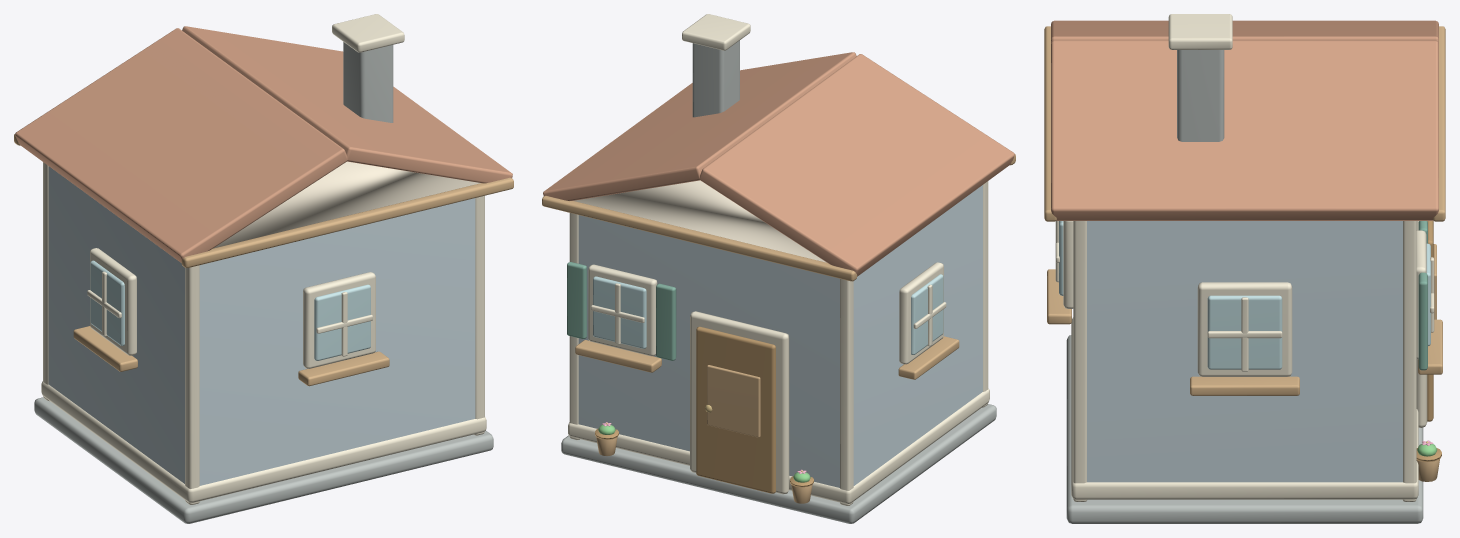
Rendered from cottage_3.glb.
3 views of the same model, side by side, from view 1: azimuth 30°, elevation 25°; view 2: azimuth 150°, elevation 25°; view 3: azimuth 270°, elevation 25° (orthographic). The views are drawn at different scales.
Size of the model in its own units: 3.42 by 3.88 by 3.06.
